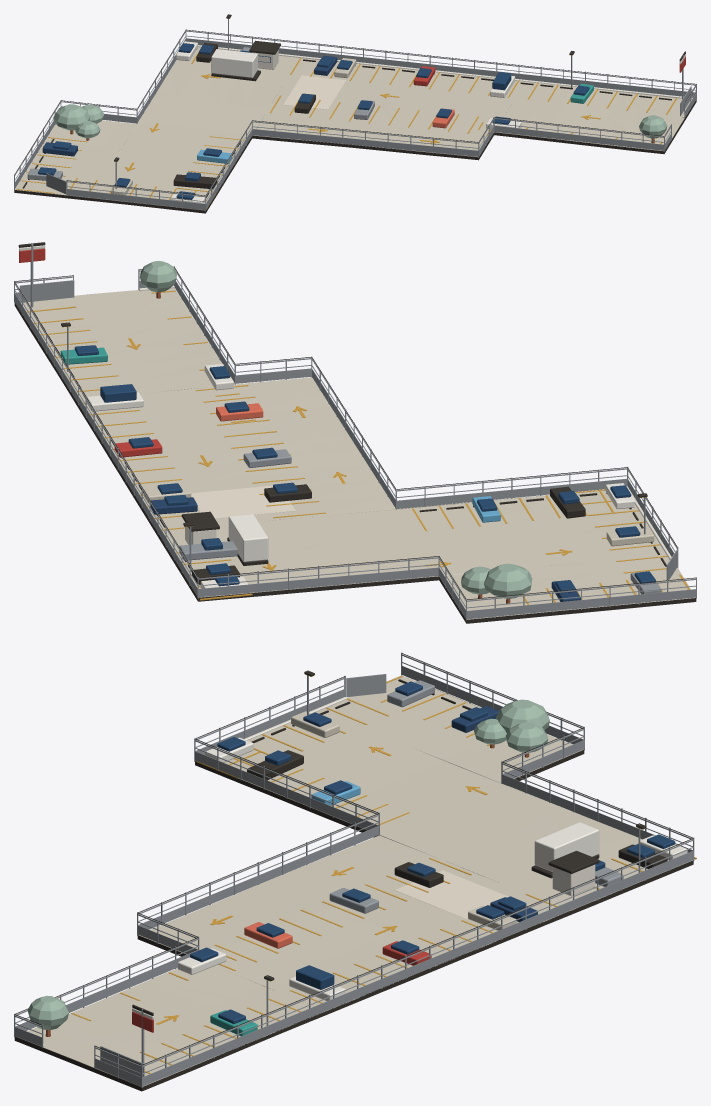
Rendered from mid.glb.
3 views of the same model, one above another, from view 1: azimuth 30°, elevation 25°; view 2: azimuth 150°, elevation 25°; view 3: azimuth 270°, elevation 25° (orthographic). The views are drawn at different scales.
Visible parts, largest first — view 1: plate, grp_Toy_steel, grp_Toy_ink, grp_Toy_glass, striping, grp_Toy_white, crowns, patch, kerb, cars_navy, cars_stone; view 2: plate, grp_Toy_steel, grp_Toy_ink, grp_Toy_glass, striping, grp_Toy_white, crowns, patch, cars_stone, grp_Toy_red, cars_navy; view 3: plate, grp_Toy_steel, grp_Toy_ink, grp_Toy_glass, grp_Toy_white, crowns, striping, patch, cars_stone, booth, cars_navy, kerb.
Part boxes in pixels (x1,y1,x2,y2): plate: (14, 47, 696, 213); grp_Toy_steel: (14, 19, 696, 211); grp_Toy_ink: (14, 14, 696, 198); grp_Toy_glass: (38, 43, 589, 199); striping: (16, 49, 677, 209); grp_Toy_white: (170, 41, 685, 203); crowns: (53, 104, 667, 138); patch: (283, 75, 346, 109); kerb: (67, 45, 695, 210); cars_navy: (42, 55, 337, 156); cars_stone: (111, 58, 356, 195); plate: (14, 288, 696, 623); grp_Toy_steel: (14, 243, 696, 620); grp_Toy_ink: (14, 242, 695, 599); grp_Toy_glass: (74, 345, 655, 593); striping: (27, 290, 689, 610); grp_Toy_white: (19, 245, 634, 588); crowns: (140, 261, 532, 598); patch: (191, 485, 295, 518); cars_stone: (143, 485, 654, 546); grp_Toy_red: (19, 248, 162, 457); cars_navy: (150, 497, 580, 601); plate: (14, 675, 693, 1091); grp_Toy_steel: (14, 652, 694, 1087); grp_Toy_ink: (15, 653, 693, 1064); grp_Toy_glass: (190, 681, 675, 1024); grp_Toy_white: (132, 737, 687, 1019); crowns: (27, 699, 549, 1029); striping: (71, 676, 696, 1073); patch: (394, 870, 508, 918); cars_stone: (291, 711, 516, 930); booth: (552, 864, 595, 896); cars_navy: (451, 706, 537, 921); kerb: (15, 697, 692, 1086).
Bounding box in the file's own units: 88.84 × 8.56 × 59.93.
